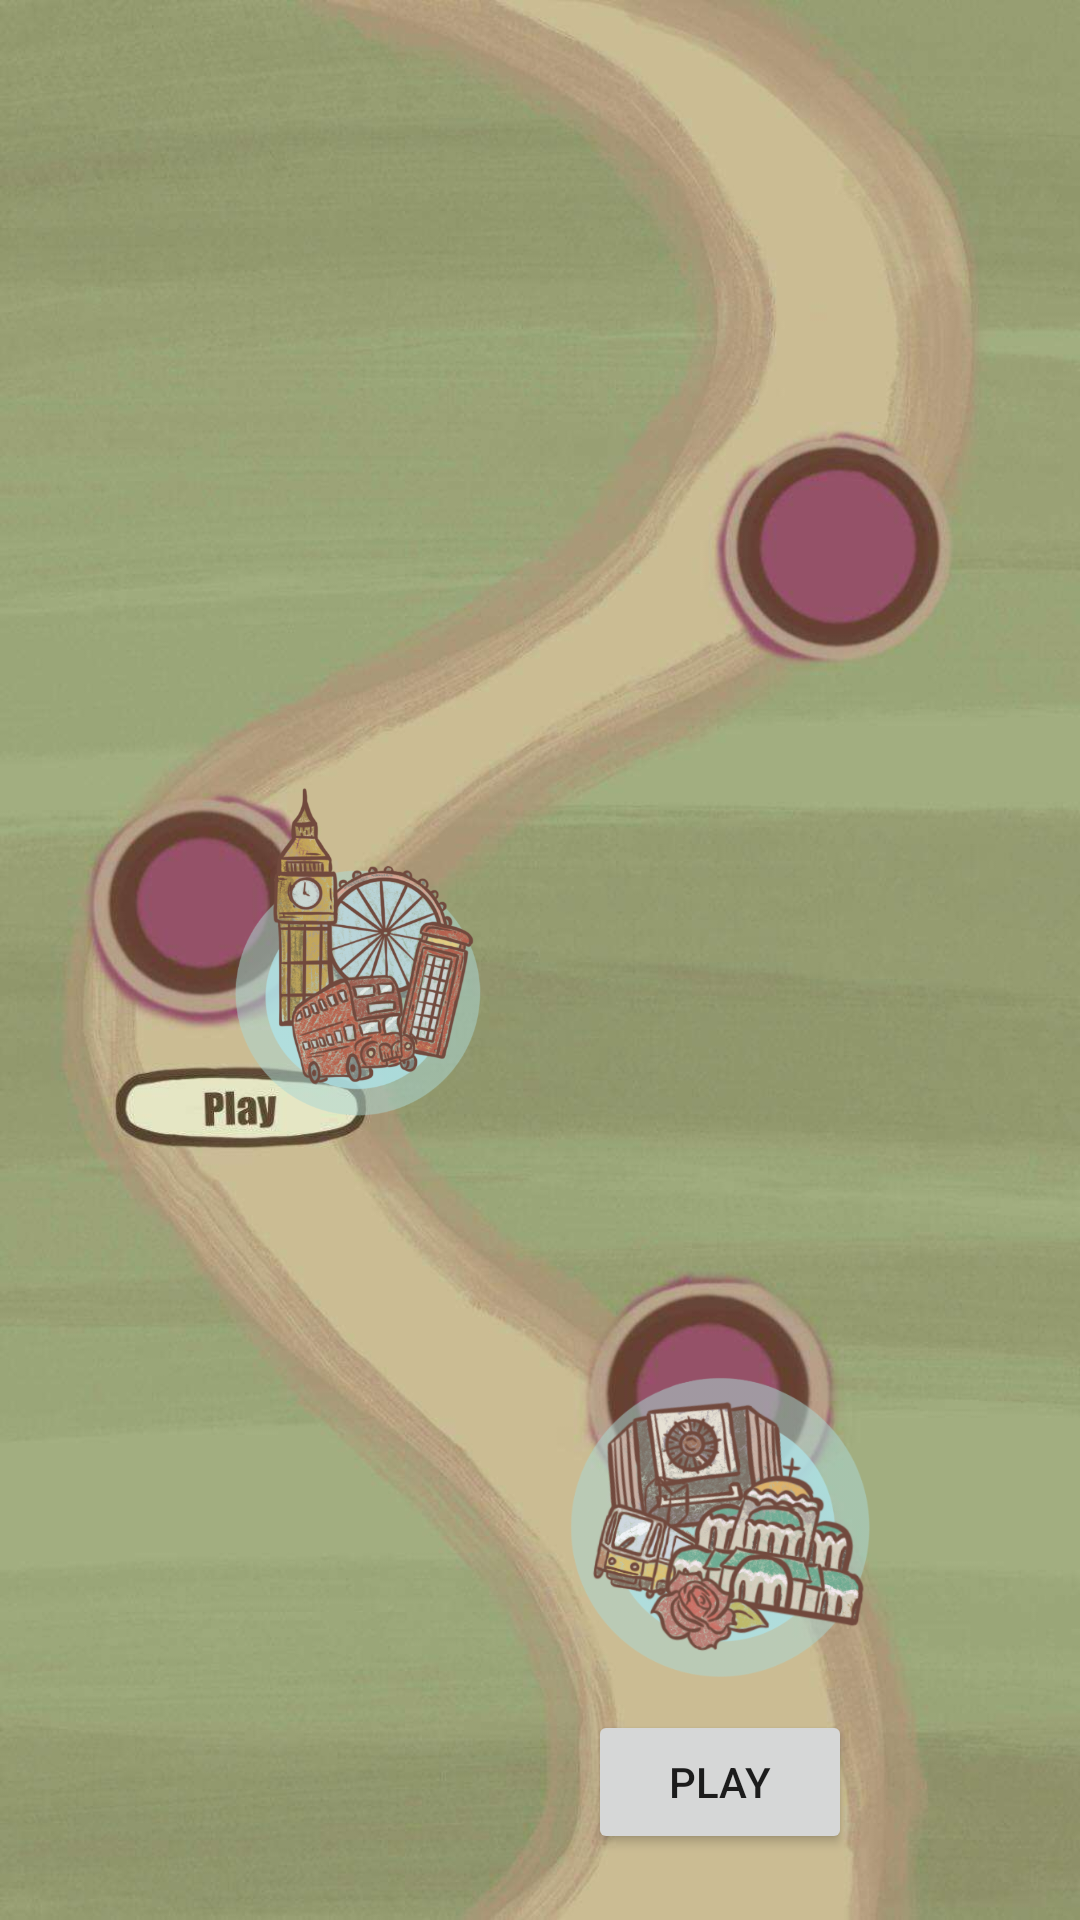

Point at icon controls on the screen. Image size 1080x1920, points as (x=x, y=y).
london: (x=360, y=960)
sofia: (x=720, y=1530)
